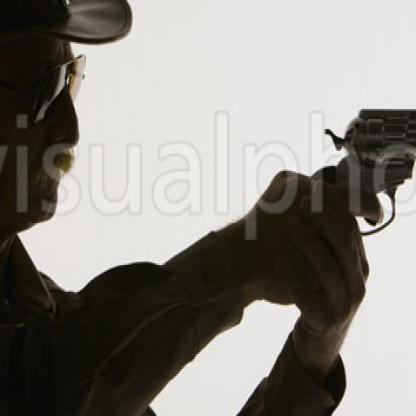gun: (295, 77, 415, 274)
